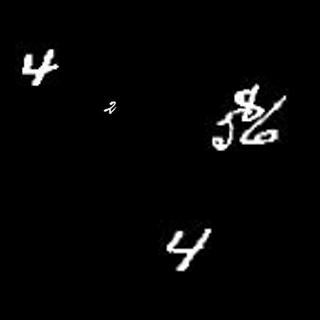eight: (237, 87, 264, 120)
five: (206, 109, 239, 152)
four: (166, 226, 212, 271), (22, 47, 58, 88)
six: (243, 96, 290, 146)
two: (102, 97, 120, 115)
